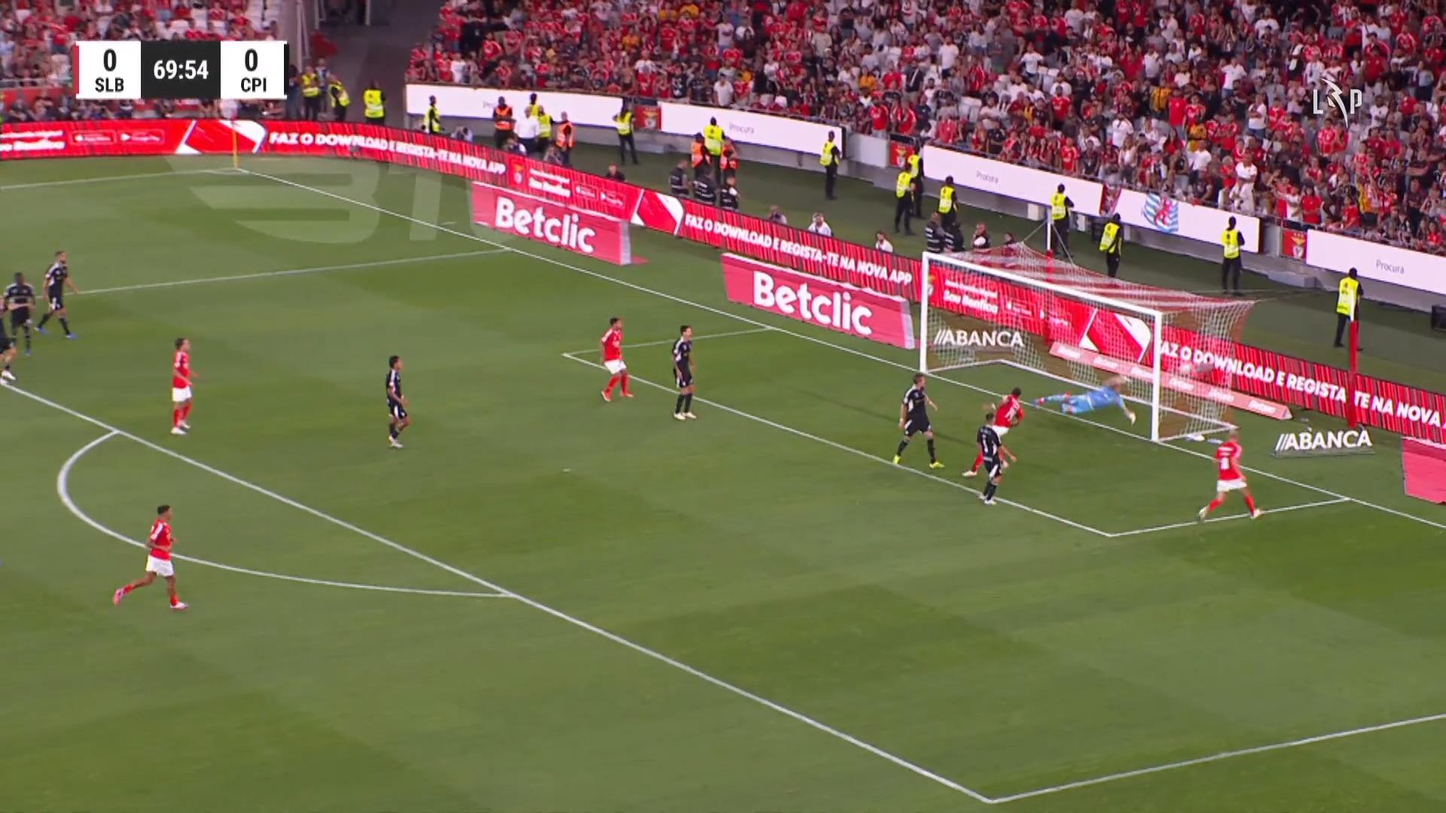goalkeeper: (1033, 373, 1137, 426)
player: (111, 503, 188, 610), (1185, 422, 1264, 522), (962, 386, 1024, 477), (892, 372, 945, 469), (32, 249, 79, 339), (599, 315, 634, 401), (1, 271, 36, 356), (169, 336, 199, 434), (670, 324, 697, 420), (384, 354, 410, 448), (0, 306, 18, 383)
